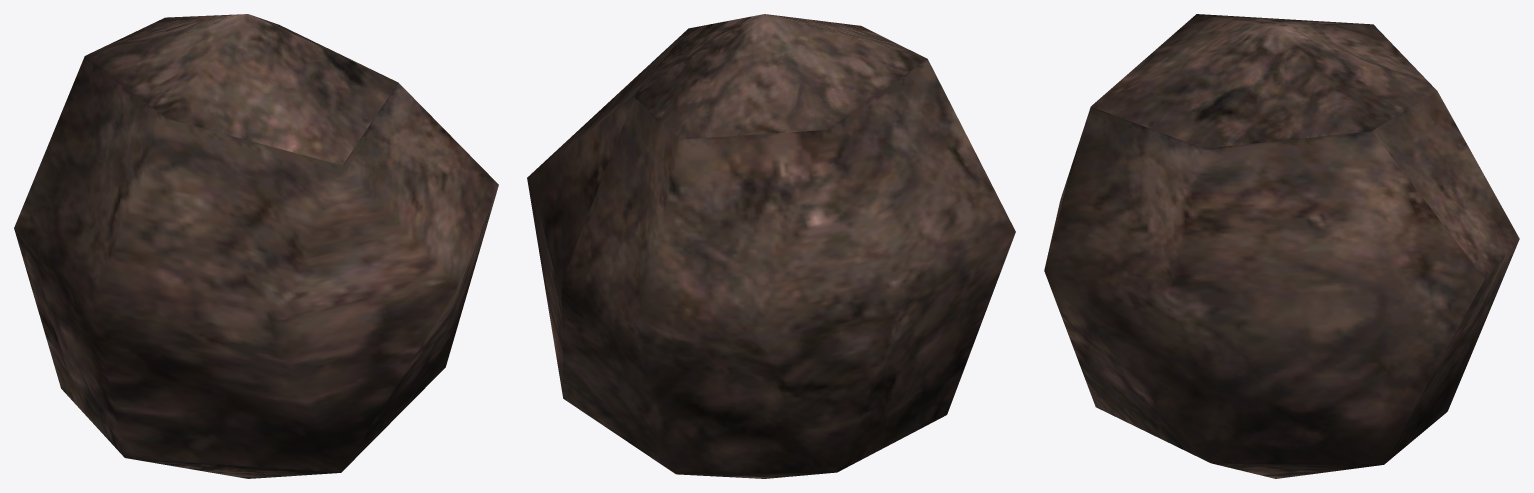
Rendered from kerberos_stone2.glb.
3 renders of one model, left to right at view 1: azimuth 30°, elevation 25°; view 2: azimuth 150°, elevation 25°; view 3: azimuth 270°, elevation 25°, orthographic. The views are drawn at different scales.
Visible parts, largest first — view 1: stone; view 2: stone; view 3: stone.
Boxes of the visible parts, x1,y1,x2,y2 form: stone: (14, 14, 498, 478); stone: (527, 14, 1015, 478); stone: (1044, 14, 1519, 478).
Bounding box in the file's own units: 7.38 × 8.2 × 7.84.
1 material, 1 textured.
